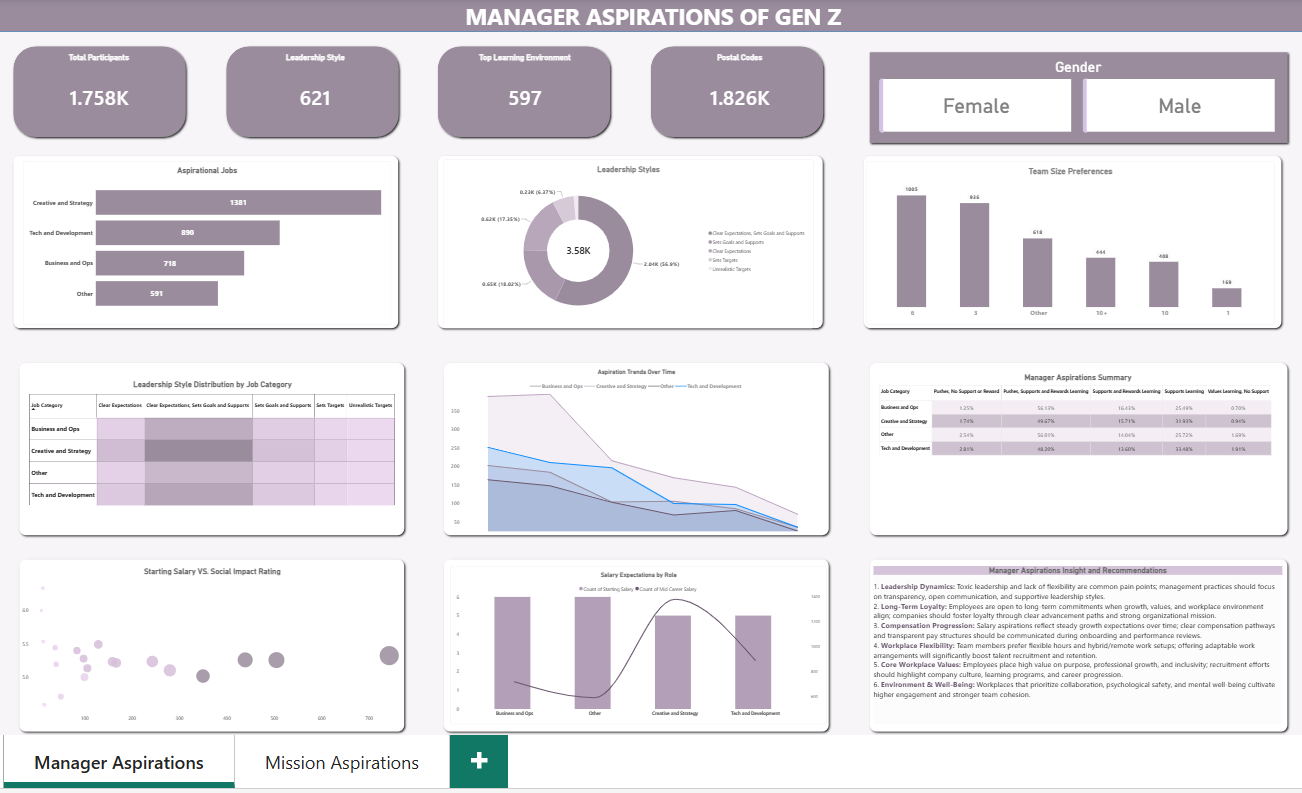

The page's visual inventory and layout, read from the dashboard file:
{"tool":"powerbi","page":{"name":" Manager Aspirations","canvas":[3840,2160],"ordinal":0},"visuals":[{"type":"shape","title":"3","box":[2528,448,1248,528],"z":0,"group":"g3"},{"type":"shape","title":"6","box":[2544,1056,1248,528],"z":0,"group":"g2"},{"type":"group","id":"g1","title":"Section 3","box":[48,1088,3744,1072],"z":0},{"type":"shape","title":"9","box":[2544,1632,1248,528],"z":0,"group":"g1"},{"type":"shape","title":"2","box":[1280,448,1152,528],"z":1000,"group":"g3"},{"type":"group","id":"g2","title":"Section 2","box":[48,1056,3744,528],"z":1000},{"type":"shape","title":"5","box":[1296,1056,1152,528],"z":1000,"group":"g2"},{"type":"shape","title":"8","box":[1296,1632,1152,528],"z":1000,"group":"g1"},{"type":"group","id":"g3","title":"Section 1","box":[32,448,3744,528],"z":2000},{"type":"shape","title":"1","box":[32,448,1152,528],"z":2000,"group":"g3"},{"type":"shape","title":"4","box":[48,1056,1152,528],"z":2000,"group":"g2"},{"type":"shape","title":"7","box":[48,1632,1152,528],"z":2000,"group":"g1"},{"type":"shape","title":"KPI4","box":[1904,128,528,288],"z":3000,"group":"g4"},{"type":"shape","title":"Filter","box":[2544,144,1248,288],"z":3000},{"type":"shape","title":"KPI3","box":[1280,128,528,288],"z":3125,"group":"g4"},{"type":"shape","title":"KPI2","box":[656,128,528,288],"z":3250,"group":"g4"},{"type":"shape","title":"KPI1","box":[32,128,528,288],"z":3500,"group":"g4"},{"type":"group","id":"g4","title":"KPIs","box":[32,128,2400,320],"z":4000},{"type":"shape","title":"Header","box":[0,0,3840,96],"z":5000},{"type":"advancedSlicerVisual","fields":{"Values":["Clean Data Sheet Final.Gender"]},"box":[2576,176,1184,224],"z":6000},{"type":"cardVisual","title":"Total Participants","fields":{"Data":["Count(Clean Data Sheet Final.Email Address)"]},"box":[64,160,464,224],"z":6002,"group":"g4"},{"type":"cardVisual","title":"Leadership Style","fields":{"Data":["Clean Data Sheet Final.Most Popular Style"]},"box":[704,160,448,224],"z":7000},{"type":"cardVisual","title":"Top Learning Environment","fields":{"Data":["Clean Data Sheet Final.Top Leaning Environment"]},"box":[1312,160,464,224],"z":8000},{"type":"cardVisual","title":"Postal Codes","fields":{"Data":["Count(Clean Data Sheet Final.Postal Code)"]},"box":[1952,160,448,224],"z":9000},{"type":"donutChart","title":"Leadership Styles","fields":{"Category":["Clean Data Sheet Final.Manager Leadership Style"],"Y":["CountNonNull(Clean Data Sheet Final.Manager Leadership Style)"]},"box":[1304,469.3,1088,496],"z":9002,"group":"g3"},{"type":"clusteredBarChart","title":"Aspirational Jobs","fields":{"Category":["Clean Data Sheet Final.Job Category"],"Y":["CountNonNull(Clean Data Sheet Final.Aspirational Job)"]},"box":[72,477.3,1080,480],"z":10000},{"type":"clusteredColumnChart","title":"Team Size Preferences","fields":{"Category":["Clean Data Sheet Final.Team Size Category"],"Y":["CountNonNull(Clean Data Sheet Final.Preferred Team Size)"]},"box":[2544,477.3,1200,480],"z":11000},{"type":"pivotTable","title":"Leadership Style Distribution by Job Category","fields":{"Columns":["Clean Data Sheet Final.Manager Leadership Style"],"Rows":["Clean Data Sheet Final.Job Category"],"Values":["CountNonNull(Clean Data Sheet Final.Submission Timestamp)"]},"box":[73,1103.3,1104,442],"z":11001,"group":"g2"},{"type":"lineChart","title":"Aspiration Trends Over Time","fields":{"Category":["Clean Data Sheet Final.Team Size Category"],"Series":["Clean Data Sheet Final.Job Category"],"Y":["CountNonNull(Clean Data Sheet Final.Submission Timestamp)"]},"box":[1326.5,1084.3,1092,480],"z":12000},{"type":"pivotTable","title":"Manager Aspirations Summary","fields":{"Columns":["Clean Data Sheet Final.Employer Culture Preference"],"Rows":["Clean Data Sheet Final.Job Category"],"Values":["Min(Clean Data Sheet Final.Manager Leadership Style)"]},"box":[2568,1084.3,1200,480],"z":13000},{"type":"lineClusteredColumnComboChart","box":[72,1088,1080,480],"z":13002,"group":"g1"},{"type":"scatterChart","title":"Starting Salary VS. Social Impact Rating","fields":{"Category":["Clean Data Sheet Final.Job Category"],"Series":["Clean Data Sheet Final.Manager Leadership Style"],"Size":["CountNonNull(Clean Data Sheet Final.Preferred Team Size)"],"X":["Clean Data Sheet Final.Starting Salary"],"Y":["Avg(Clean Data Sheet Final.Social Impact Rating)"]},"box":[64,1664,1120,464],"z":14000},{"type":"lineClusteredColumnComboChart","title":"Salary Expectations by Role","fields":{"Category":["Clean Data Sheet Final.Job Category"],"Y":["Count(Clean Data Sheet Final.Starting Salary)"],"Y2":["CountNonNull(Clean Data Sheet Final.Mid Career Salary)"]},"box":[1324,1664,1104,464],"z":15000},{"type":"textbox","title":"Manager Aspirations Insight and Recommendations","box":[2568,1664,1200,464],"z":16000}]}

Visuals, with their boxes on the page's 3840x2160 design canvas (x1, y1, x2, y2). These are canvas units, not pixel positions in the 1302x793 screenshot, which may show the page scaled, cropped or inside an application window:
"3" shape: {"x1": 2528, "y1": 448, "x2": 3776, "y2": 976}
"6" shape: {"x1": 2544, "y1": 1056, "x2": 3792, "y2": 1584}
"Section 3" group: {"x1": 48, "y1": 1088, "x2": 3792, "y2": 2160}
"9" shape: {"x1": 2544, "y1": 1632, "x2": 3792, "y2": 2160}
"2" shape: {"x1": 1280, "y1": 448, "x2": 2432, "y2": 976}
"Section 2" group: {"x1": 48, "y1": 1056, "x2": 3792, "y2": 1584}
"5" shape: {"x1": 1296, "y1": 1056, "x2": 2448, "y2": 1584}
"8" shape: {"x1": 1296, "y1": 1632, "x2": 2448, "y2": 2160}
"Section 1" group: {"x1": 32, "y1": 448, "x2": 3776, "y2": 976}
"1" shape: {"x1": 32, "y1": 448, "x2": 1184, "y2": 976}
"4" shape: {"x1": 48, "y1": 1056, "x2": 1200, "y2": 1584}
"7" shape: {"x1": 48, "y1": 1632, "x2": 1200, "y2": 2160}
"KPI4" shape: {"x1": 1904, "y1": 128, "x2": 2432, "y2": 416}
"Filter" shape: {"x1": 2544, "y1": 144, "x2": 3792, "y2": 432}
"KPI3" shape: {"x1": 1280, "y1": 128, "x2": 1808, "y2": 416}
"KPI2" shape: {"x1": 656, "y1": 128, "x2": 1184, "y2": 416}
"KPI1" shape: {"x1": 32, "y1": 128, "x2": 560, "y2": 416}
"KPIs" group: {"x1": 32, "y1": 128, "x2": 2432, "y2": 448}
"Header" shape: {"x1": 0, "y1": 0, "x2": 3840, "y2": 96}
advancedSlicerVisual - Clean Data Sheet Final.Gender: {"x1": 2576, "y1": 176, "x2": 3760, "y2": 400}
"Total Participants" cardVisual: {"x1": 64, "y1": 160, "x2": 528, "y2": 384}
"Leadership Style" cardVisual: {"x1": 704, "y1": 160, "x2": 1152, "y2": 384}
"Top Learning Environment" cardVisual: {"x1": 1312, "y1": 160, "x2": 1776, "y2": 384}
"Postal Codes" cardVisual: {"x1": 1952, "y1": 160, "x2": 2400, "y2": 384}
"Leadership Styles" donutChart: {"x1": 1304, "y1": 469, "x2": 2392, "y2": 965}
"Aspirational Jobs" clusteredBarChart: {"x1": 72, "y1": 477, "x2": 1152, "y2": 957}
"Team Size Preferences" clusteredColumnChart: {"x1": 2544, "y1": 477, "x2": 3744, "y2": 957}
"Leadership Style Distribution by Job Category" pivotTable: {"x1": 73, "y1": 1103, "x2": 1177, "y2": 1545}
"Aspiration Trends Over Time" lineChart: {"x1": 1326, "y1": 1084, "x2": 2418, "y2": 1564}
"Manager Aspirations Summary" pivotTable: {"x1": 2568, "y1": 1084, "x2": 3768, "y2": 1564}
lineClusteredColumnComboChart: {"x1": 72, "y1": 1088, "x2": 1152, "y2": 1568}
"Starting Salary VS. Social Impact Rating" scatterChart: {"x1": 64, "y1": 1664, "x2": 1184, "y2": 2128}
"Salary Expectations by Role" lineClusteredColumnComboChart: {"x1": 1324, "y1": 1664, "x2": 2428, "y2": 2128}
"Manager Aspirations Insight and Recommendations" textbox: {"x1": 2568, "y1": 1664, "x2": 3768, "y2": 2128}
